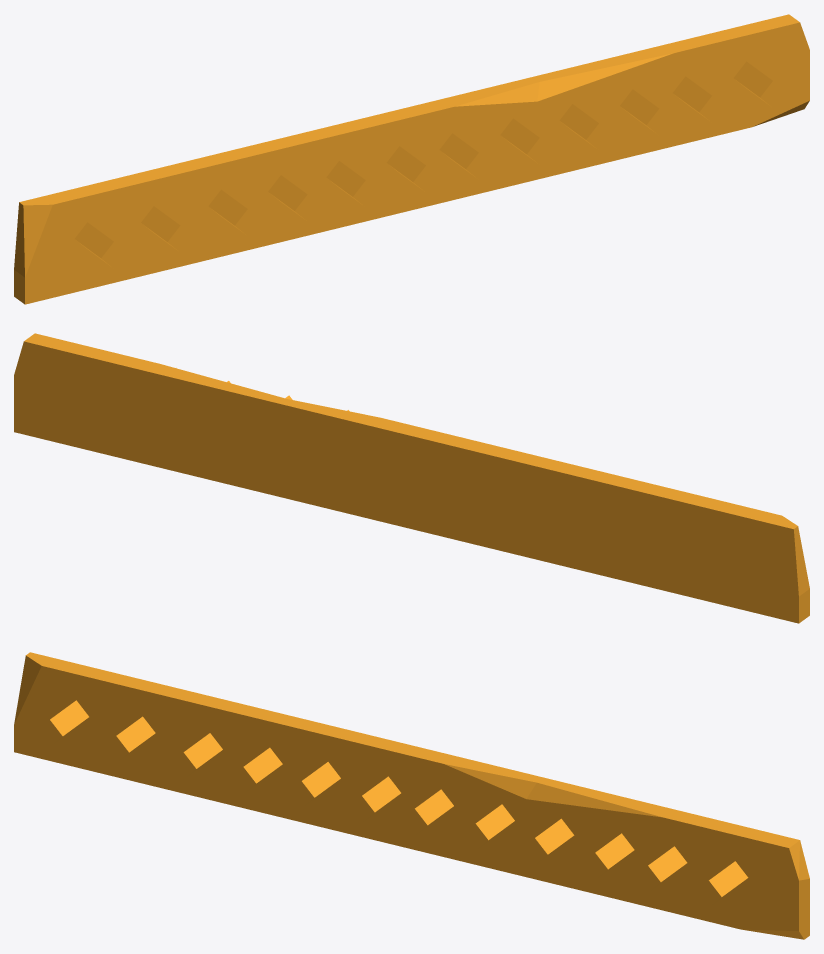
The model's file is SM_Hanger_Wooden_Tool.fbx.
The picture shows the model from 3 angles, top to bottom: view 1: azimuth 30°, elevation 25°; view 2: azimuth 150°, elevation 25°; view 3: azimuth 330°, elevation 25°; orthographic projection.
Parts seen in each view (by area): view 1: hanger-wooden-tool; view 2: hanger-wooden-tool; view 3: hanger-wooden-tool.
Part boxes in pixels (<box>): hanger-wooden-tool: <box>14,14,809,304</box>; hanger-wooden-tool: <box>14,333,809,623</box>; hanger-wooden-tool: <box>14,652,809,939</box>.
Size of the model in its own units: 1.23 by 0.1393 by 0.1022.
